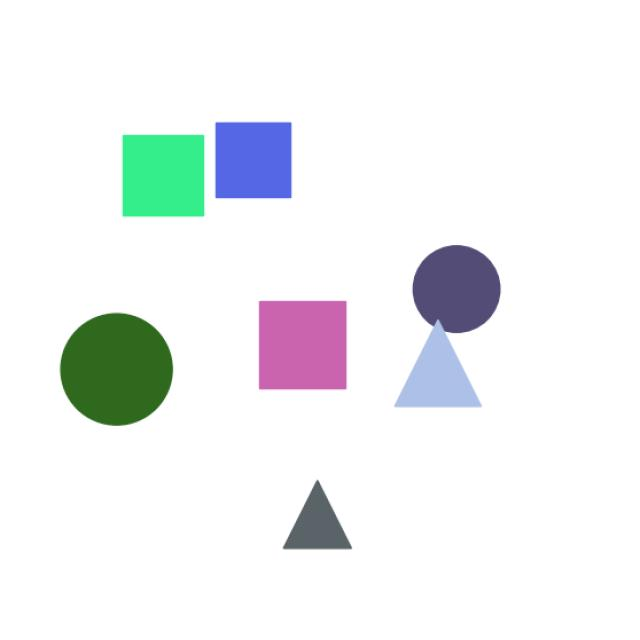Circle: (34, 299, 182, 429), (394, 233, 510, 335)
Triangle: (391, 309, 505, 424), (270, 459, 368, 567)
square: (235, 280, 347, 400), (102, 123, 214, 225), (206, 116, 312, 215)
